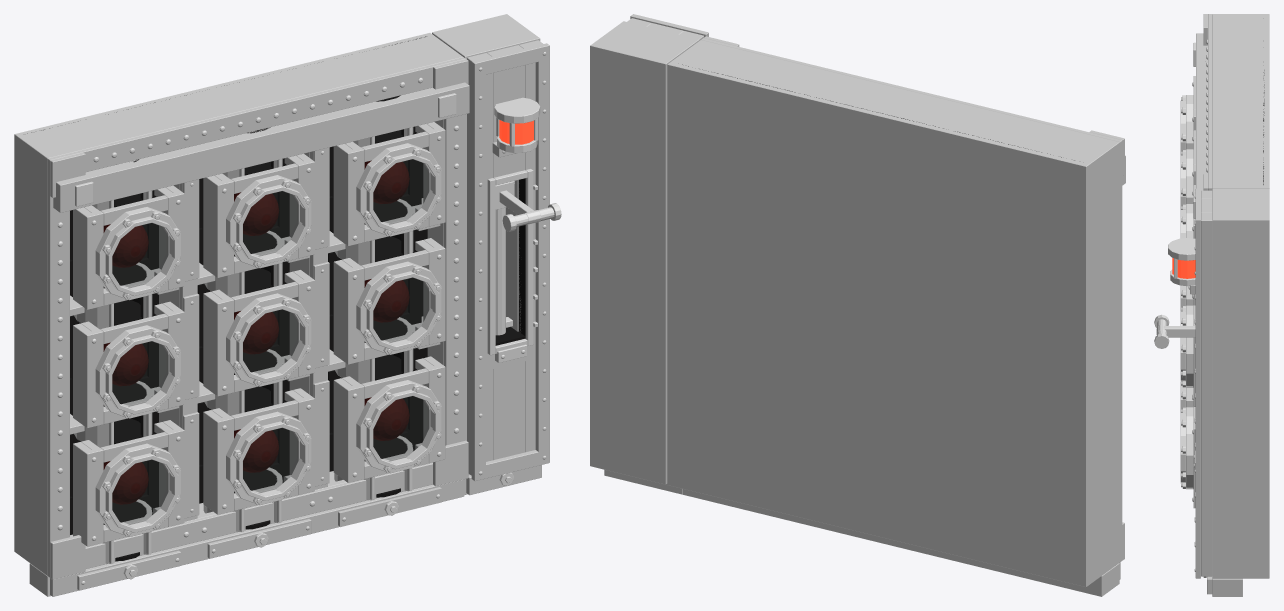
The model's file is OH_OvenHarvest.fbx.
3 renders of one model, left to right at view 1: azimuth 30°, elevation 25°; view 2: azimuth 150°, elevation 25°; view 3: azimuth 270°, elevation 25°, orthographic. The views are drawn at different scales.
Parts seen in each view (by area): view 1: OH_Cabinet, OH_Trim, OH_Column, OH_Portholes_Glass, OH_ChamberInterior, OH_SoulHalos, OH_ColumnTrim, OH_BankBacking, OH_ColumnSlotDark; view 2: OH_Cabinet, OH_Column; view 3: OH_Column, OH_Cabinet, OH_Trim, OH_ColumnTrim, OH_SirenLens, OH_LeverGrip.
Part boxes in pixels (<box>): OH_Cabinet: <box>14,33,469,596</box>; OH_Trim: <box>57,78,458,584</box>; OH_Column: <box>432,14,549,495</box>; OH_Portholes_Glass: <box>112,159,429,524</box>; OH_ChamberInterior: <box>27,36,427,561</box>; OH_SoulHalos: <box>103,160,409,504</box>; OH_ColumnTrim: <box>479,52,546,485</box>; OH_BankBacking: <box>70,126,421,508</box>; OH_ColumnSlotDark: <box>495,178,525,345</box>; OH_Cabinet: <box>667,36,1125,596</box>; OH_Column: <box>590,14,708,494</box>; OH_Column: <box>1190,188,1269,596</box>; OH_Cabinet: <box>1193,14,1269,508</box>; OH_Trim: <box>1180,39,1207,501</box>; OH_ColumnTrim: <box>1156,195,1206,577</box>; OH_SirenLens: <box>1172,258,1195,278</box>; OH_LeverGrip: <box>1154,314,1169,348</box>.
Size of the model in its own units: 223 by 189 by 52.35.
